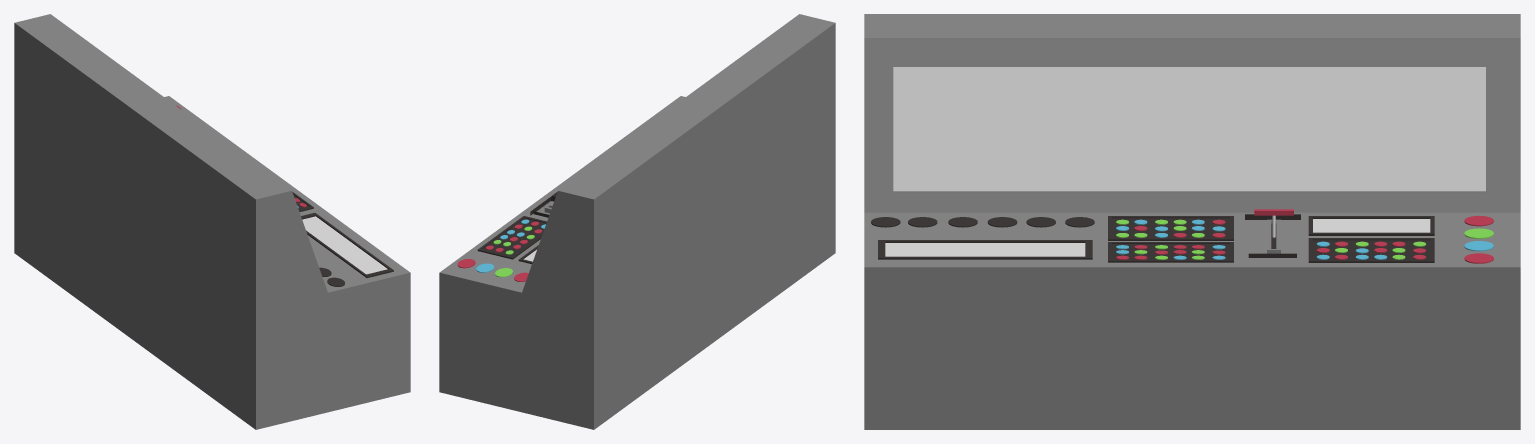
File: computer thing.fbx
3 views of the same model, side by side, from view 1: azimuth 30°, elevation 25°; view 2: azimuth 150°, elevation 25°; view 3: azimuth 270°, elevation 25° (orthographic). The views are drawn at different scales.
Parts seen in each view (by area): view 1: Cube; view 2: Cube; view 3: Cube.
Boxes of the visible parts, box(x1,y1,x2,y2) form: Cube: box(14, 14, 410, 429); Cube: box(439, 14, 835, 429); Cube: box(864, 14, 1520, 429).
Size of the model in its own units: 214 by 305 by 580.
